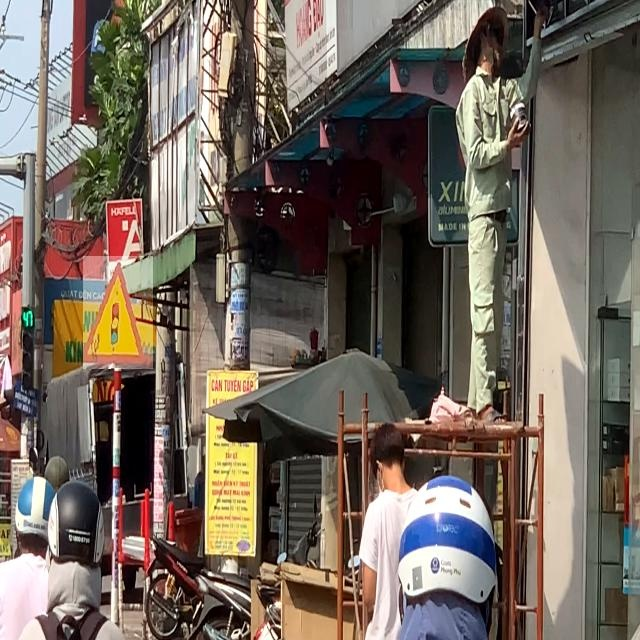bien_nguy_hiem: (83, 256, 153, 369)
